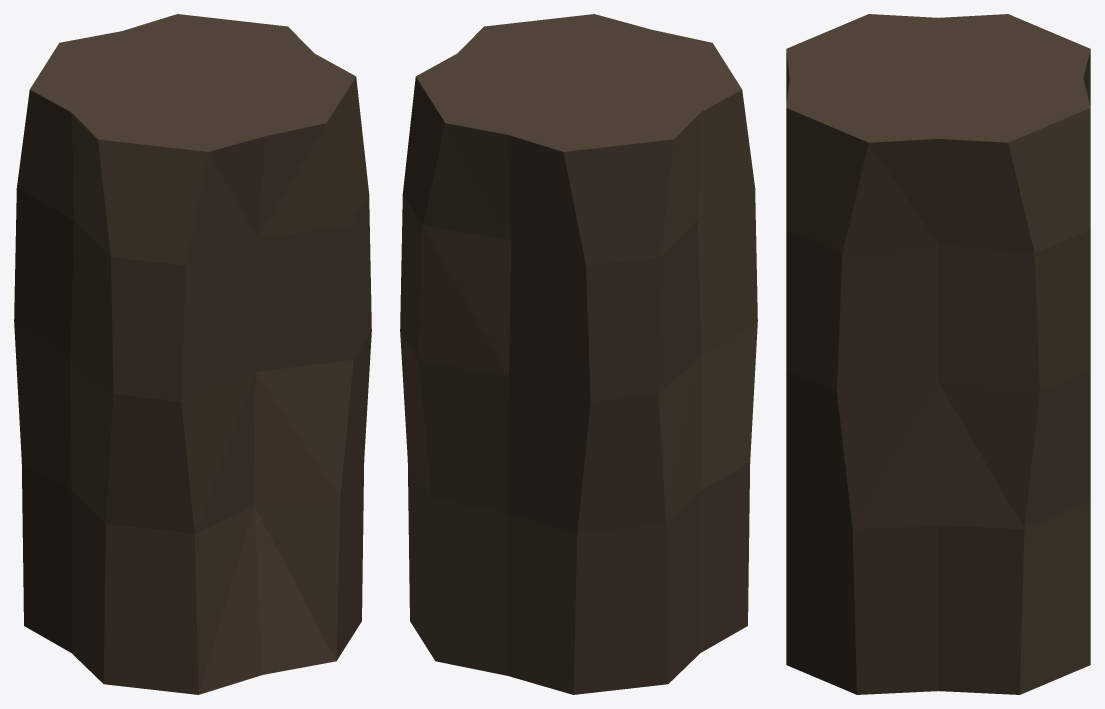
The model's file is Section_2.glb.
The picture shows the model from 3 angles, left to right: view 1: azimuth 30°, elevation 25°; view 2: azimuth 150°, elevation 25°; view 3: azimuth 270°, elevation 25°; orthographic projection. The views are drawn at different scales.
Visible parts, largest first — view 1: Section; view 2: Section; view 3: Section.
Part boxes in pixels (x1,y1,x2,y2): Section: [14, 14, 371, 694]; Section: [400, 14, 757, 694]; Section: [786, 14, 1090, 694].
Size of the model in its own units: 2.4 by 4.8 by 2.4.
